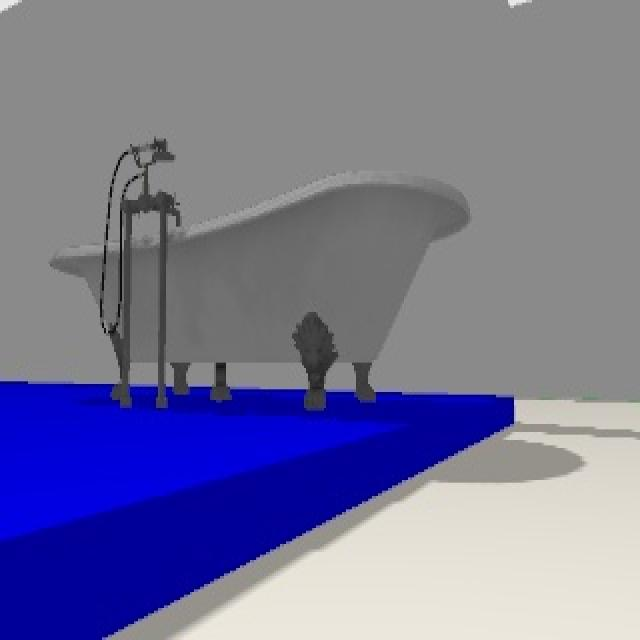bathtub: (56, 143, 467, 417)
